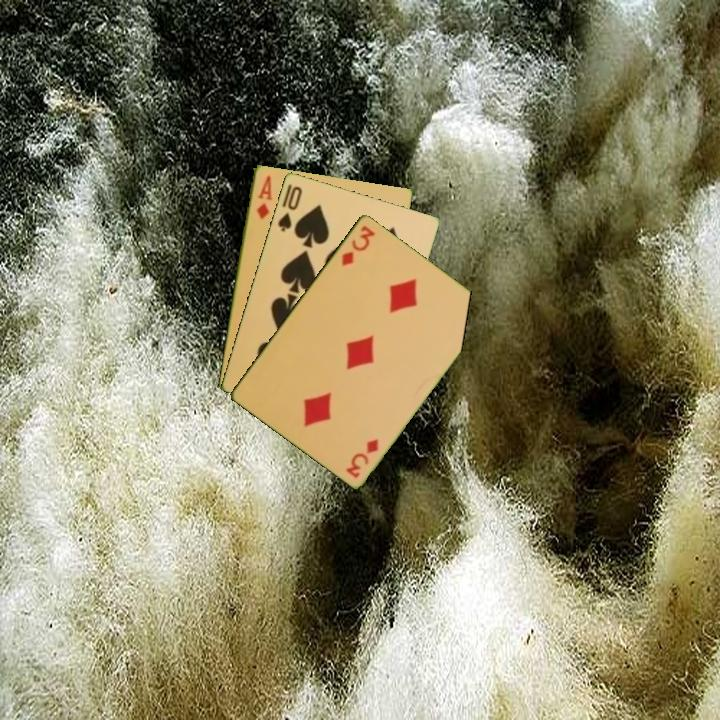10s: (274, 182, 305, 234)
3d: (338, 221, 378, 269), (342, 435, 381, 481)
Ad: (253, 171, 274, 221)
